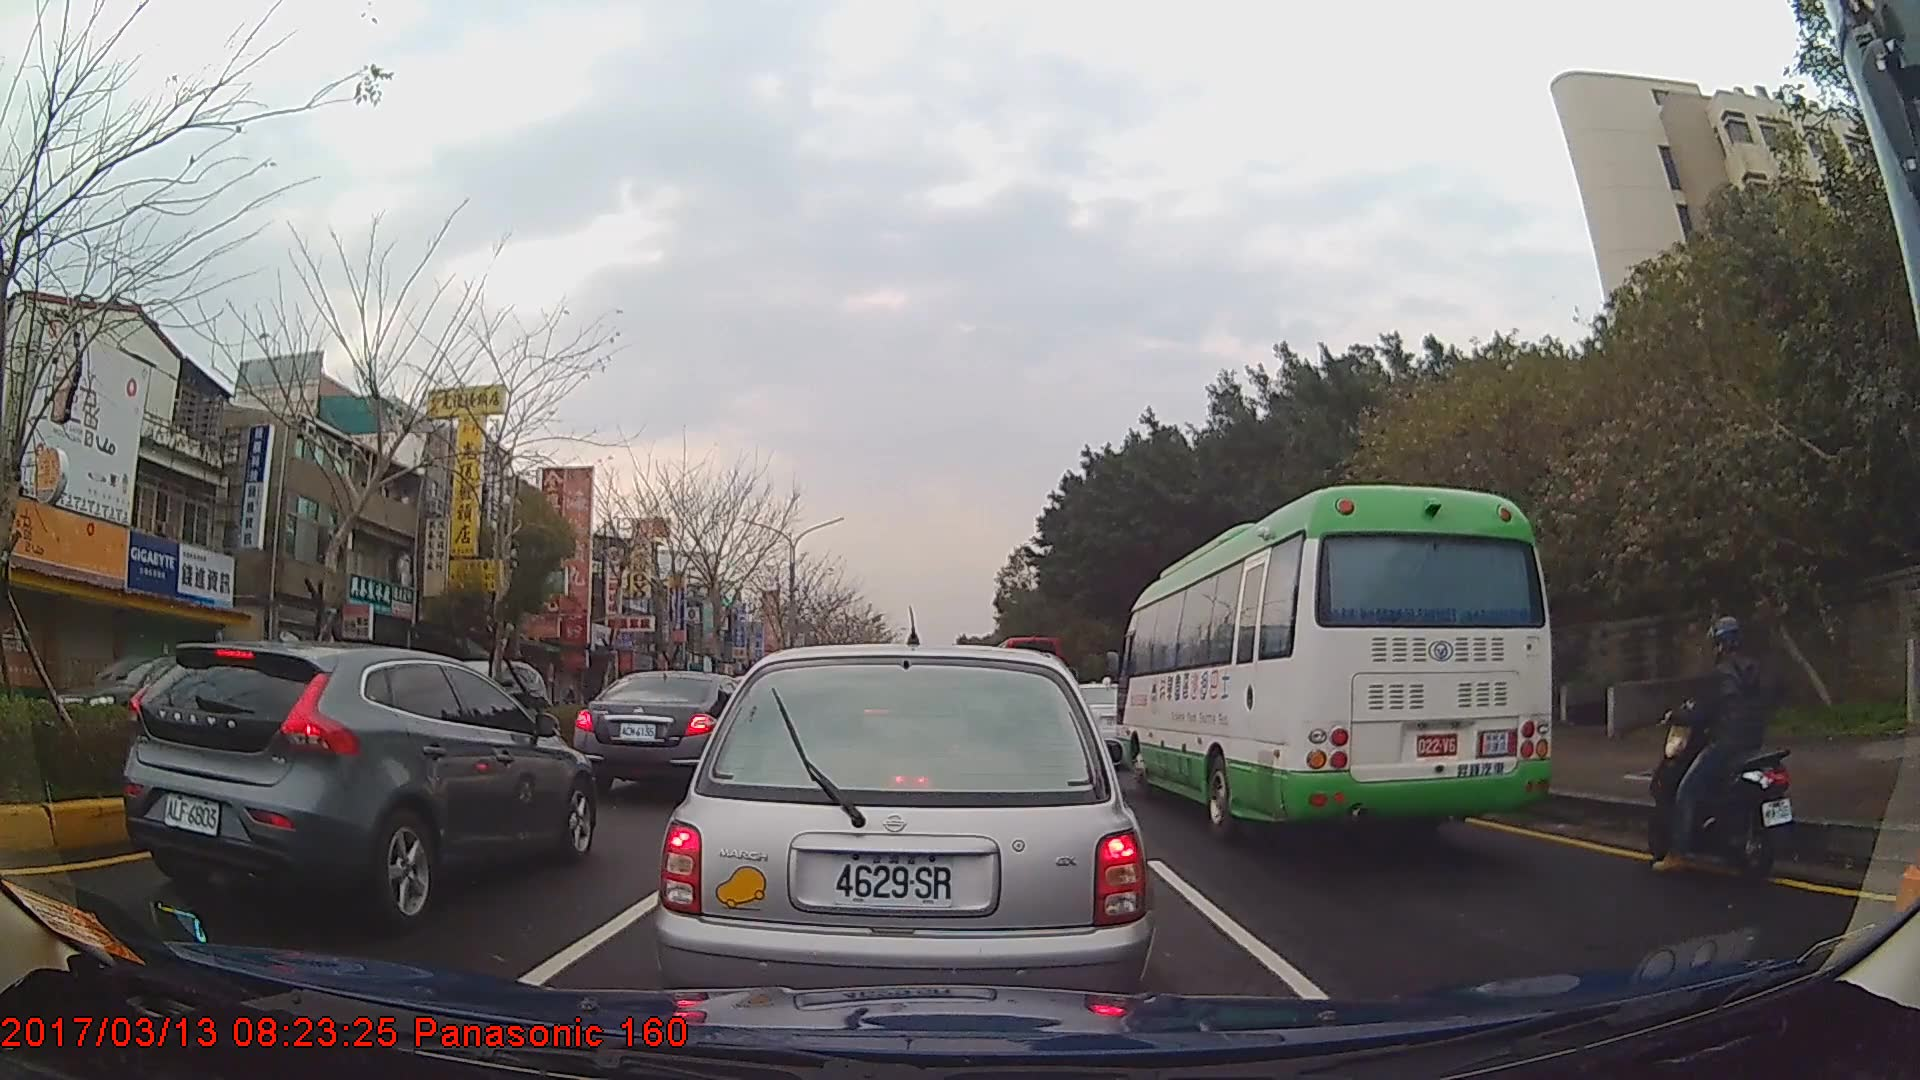rider: (1647, 612, 1789, 877)
vehicle: (649, 641, 1156, 1039), (1129, 485, 1553, 837), (119, 643, 594, 927), (571, 670, 760, 807), (35, 651, 249, 746), (419, 657, 549, 745)
